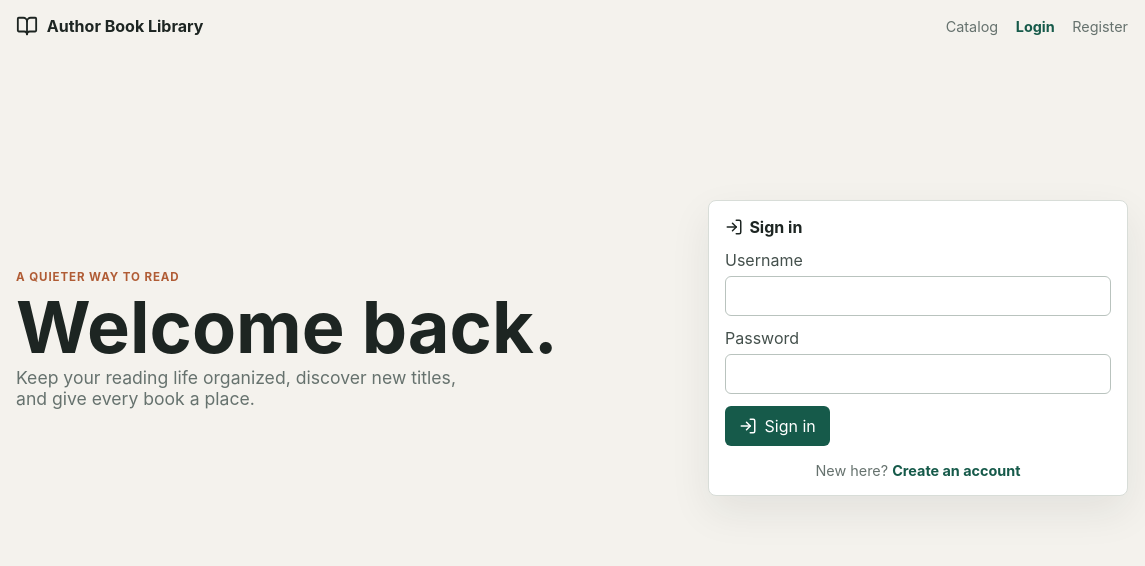
Scenario: routed library experience › shows server-rejected login errors
In the field labelled "Username": (918, 296) x1=725 y1=276 x2=1111 y2=316, type "reader"
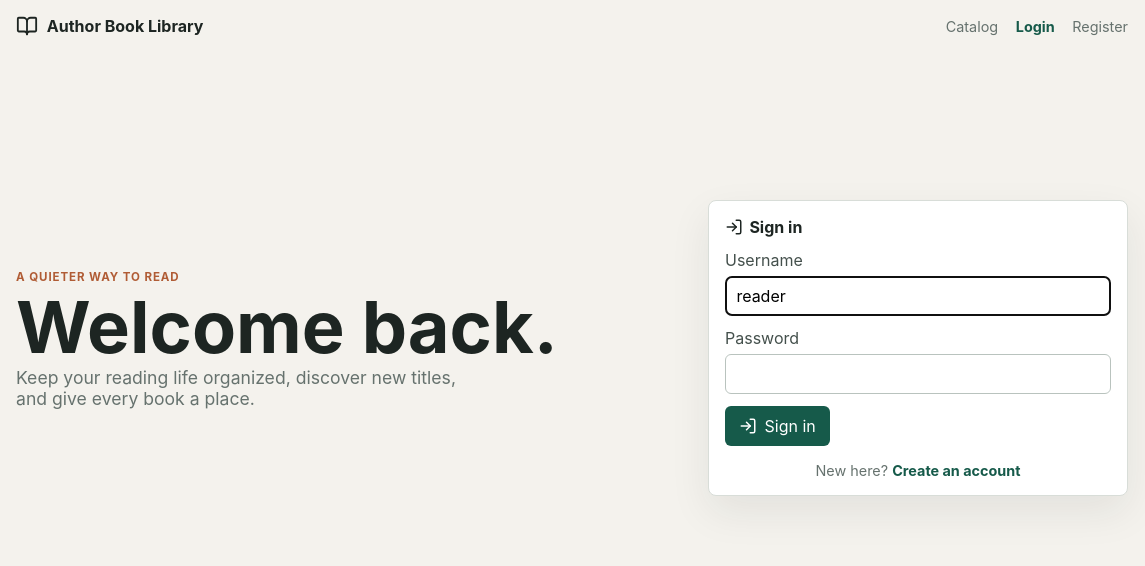
In the password field labelled "Password": (918, 374) x1=725 y1=354 x2=1111 y2=394, type "WrongPass123!"
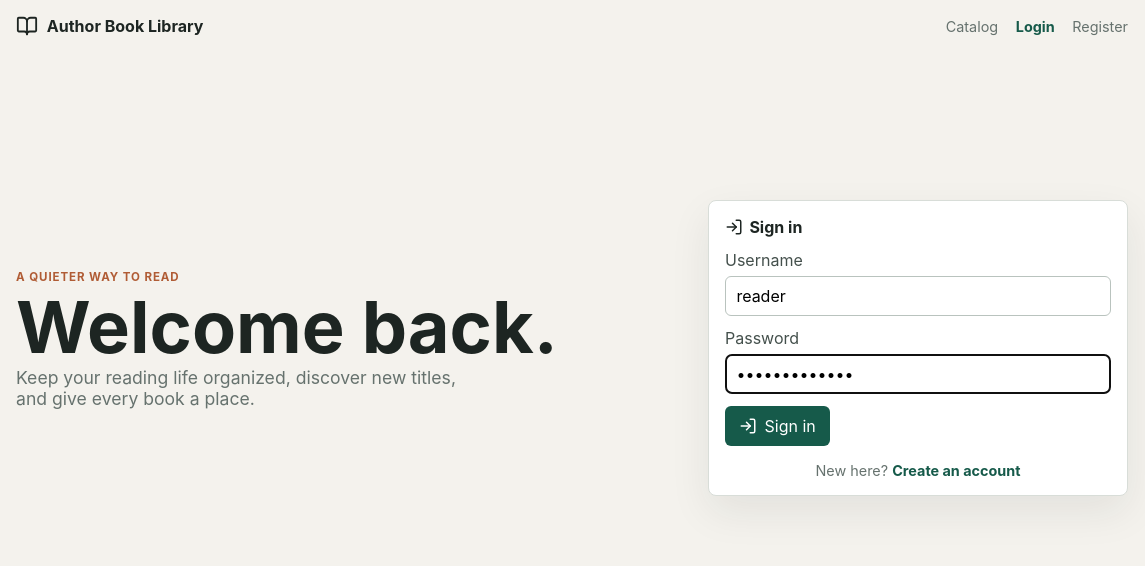
Click the button "Sign in": (778, 426) x1=725 y1=406 x2=830 y2=446
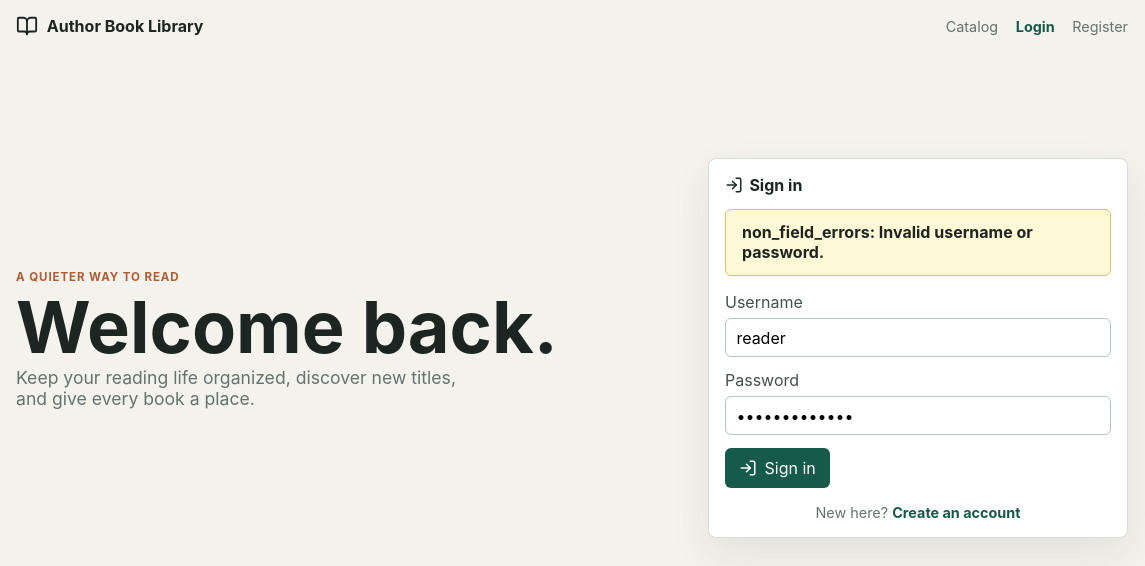
Result: the message shows "Invalid username or password." at x1=742 y1=222 x2=1033 y2=262
